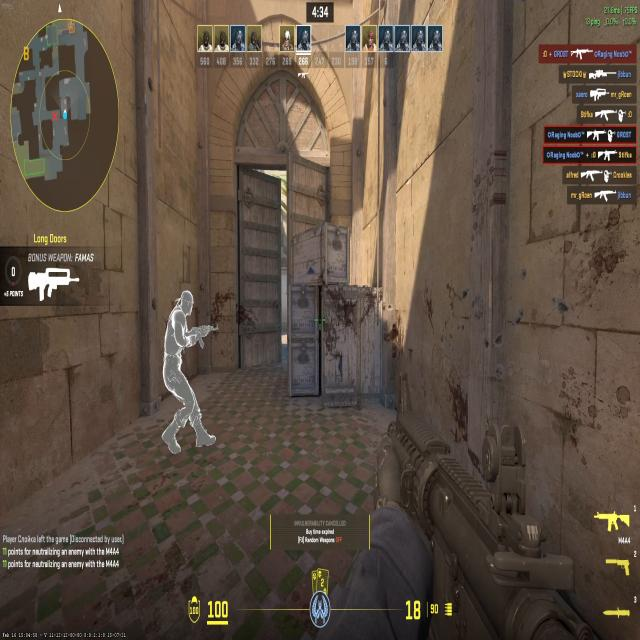player: (154, 286, 219, 464)
